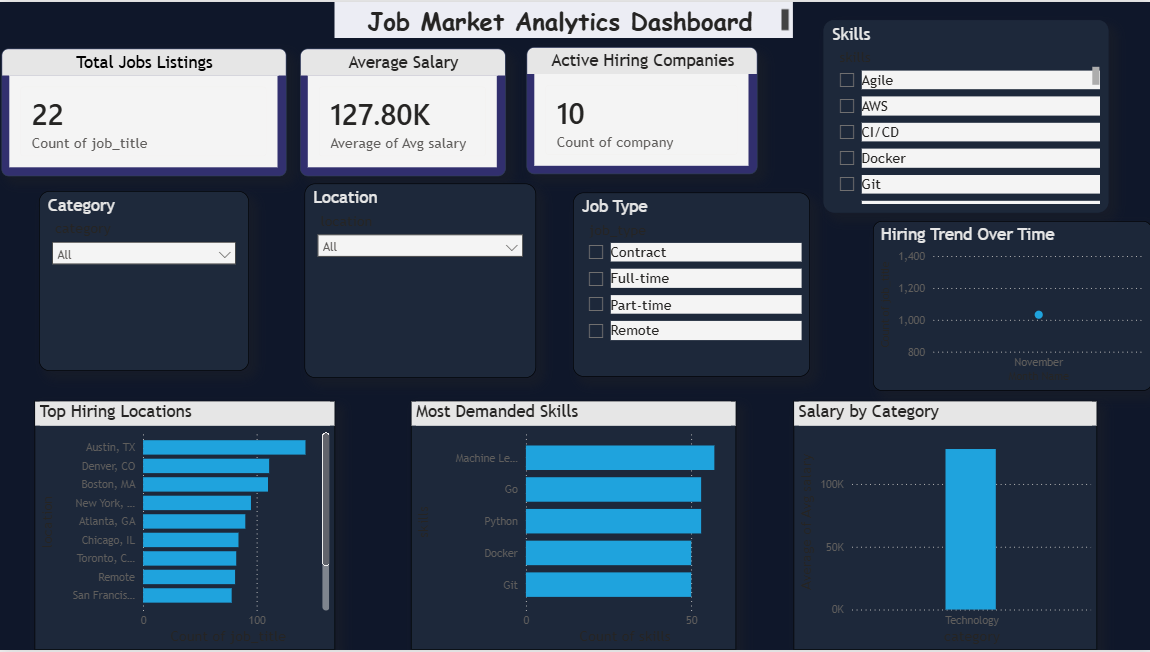

What the dashboard file says about the page in this screenshot:
{"tool":"powerbi","page":{"name":"Page 2","canvas":[1280,720],"ordinal":0},"visuals":[{"type":"textbox","box":[372.3,0,509.7,39.9],"z":0},{"type":"slicer","title":"Skills","fields":{"Values":["job_market.skills"]},"box":[915.5,20.8,316.3,214.1],"z":1},{"type":"cardVisual","title":"Total Jobs Listings","fields":{"Data":["Count(job_market.job_title)"]},"box":[1.6,51.1,316.3,142.2],"z":2},{"type":"cardVisual","title":"Average Salary","fields":{"Data":["Avg(job_market.Avg salary)"]},"box":[333.9,51.1,228.5,142.2],"z":3},{"type":"cardVisual","title":"Active Hiring Companies","fields":{"Data":["Count(job_market.company)"]},"box":[585.6,50.4,257,141.5],"z":4},{"type":"lineChart","title":"Hiring Trend Over Time","fields":{"Category":["job_market.Month Name"],"Y":["CountNonNull(job_market.job_title)"]},"box":[969.8,242.8,309.9,188.5],"z":5},{"type":"clusteredBarChart","title":"Top Hiring Locations","fields":{"Category":["job_market.location"],"Y":["CountNonNull(job_market.job_title)"]},"box":[38.3,444.2,333.9,276.4],"z":6},{"type":"clusteredBarChart","title":"Most Demanded Skills","fields":{"Category":["job_market.skills"],"Y":["CountNonNull(job_market.skills)"]},"box":[456.9,444.2,361.1,276.4],"z":7},{"type":"clusteredColumnChart","title":"Salary by Category","fields":{"Category":["job_market.category"],"Y":["Avg(job_market.Avg salary)"]},"box":[881.9,444.2,337.1,276.4],"z":8},{"type":"slicer","title":"Category","fields":{"Values":["job_market.category"]},"box":[43.1,209.3,233.3,199.7],"z":9},{"type":"slicer","title":"Location","fields":{"Values":["job_market.location"]},"box":[338.7,201.3,257.2,215.7],"z":10},{"type":"slicer","title":"Job Type","fields":{"Values":["job_market.job_type"]},"box":[637.5,212.5,263.6,204.5],"z":11}]}

Visuals, with their boxes in screenshot pixels (x1, y1, x2, y2), scaled from the page's 1280x720 canvas onto the 1150x652 screenshot:
textbox: bbox=(334, 0, 792, 36)
"Skills" slicer: bbox=(823, 19, 1107, 213)
"Total Jobs Listings" cardVisual: bbox=(1, 46, 286, 175)
"Average Salary" cardVisual: bbox=(300, 46, 505, 175)
"Active Hiring Companies" cardVisual: bbox=(526, 46, 757, 174)
"Hiring Trend Over Time" lineChart: bbox=(871, 220, 1149, 391)
"Top Hiring Locations" clusteredBarChart: bbox=(34, 402, 334, 651)
"Most Demanded Skills" clusteredBarChart: bbox=(410, 402, 735, 651)
"Salary by Category" clusteredColumnChart: bbox=(792, 402, 1095, 651)
"Category" slicer: bbox=(39, 190, 248, 370)
"Location" slicer: bbox=(304, 182, 535, 378)
"Job Type" slicer: bbox=(573, 192, 810, 378)
